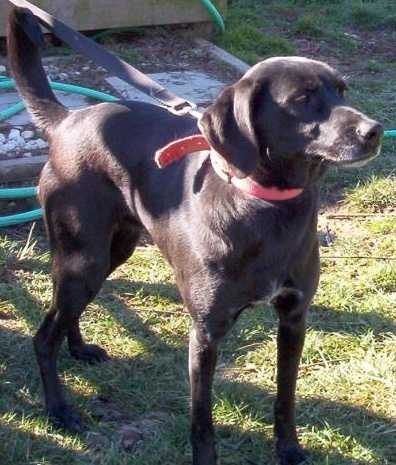dog: (17, 24, 371, 445)
